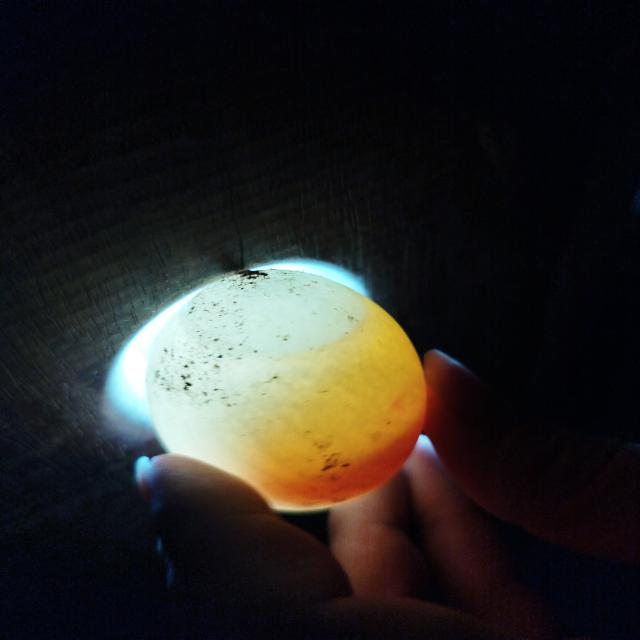Camara de Ar: (203, 270, 364, 350)
